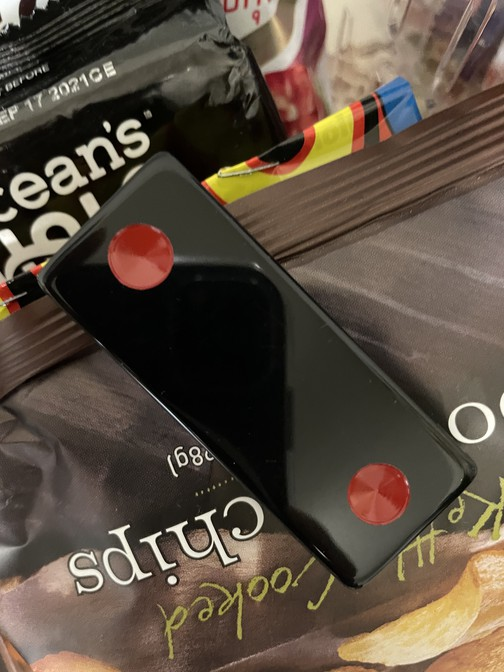earth: (43, 151, 477, 589)
